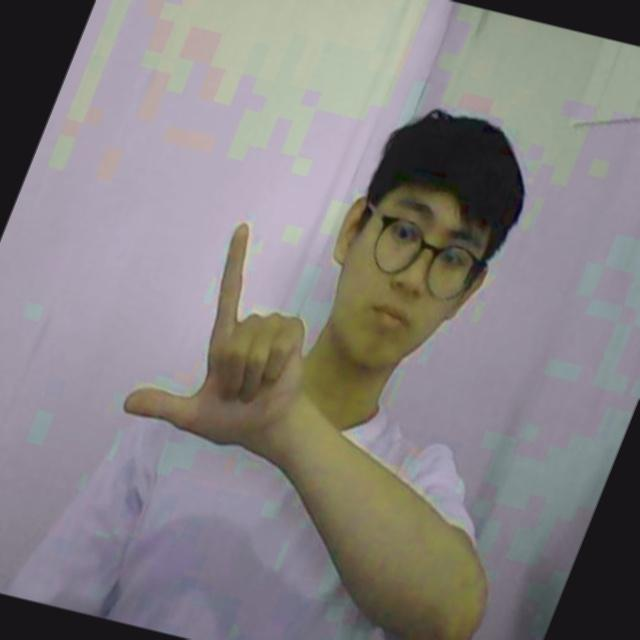L: (112, 208, 312, 450)
